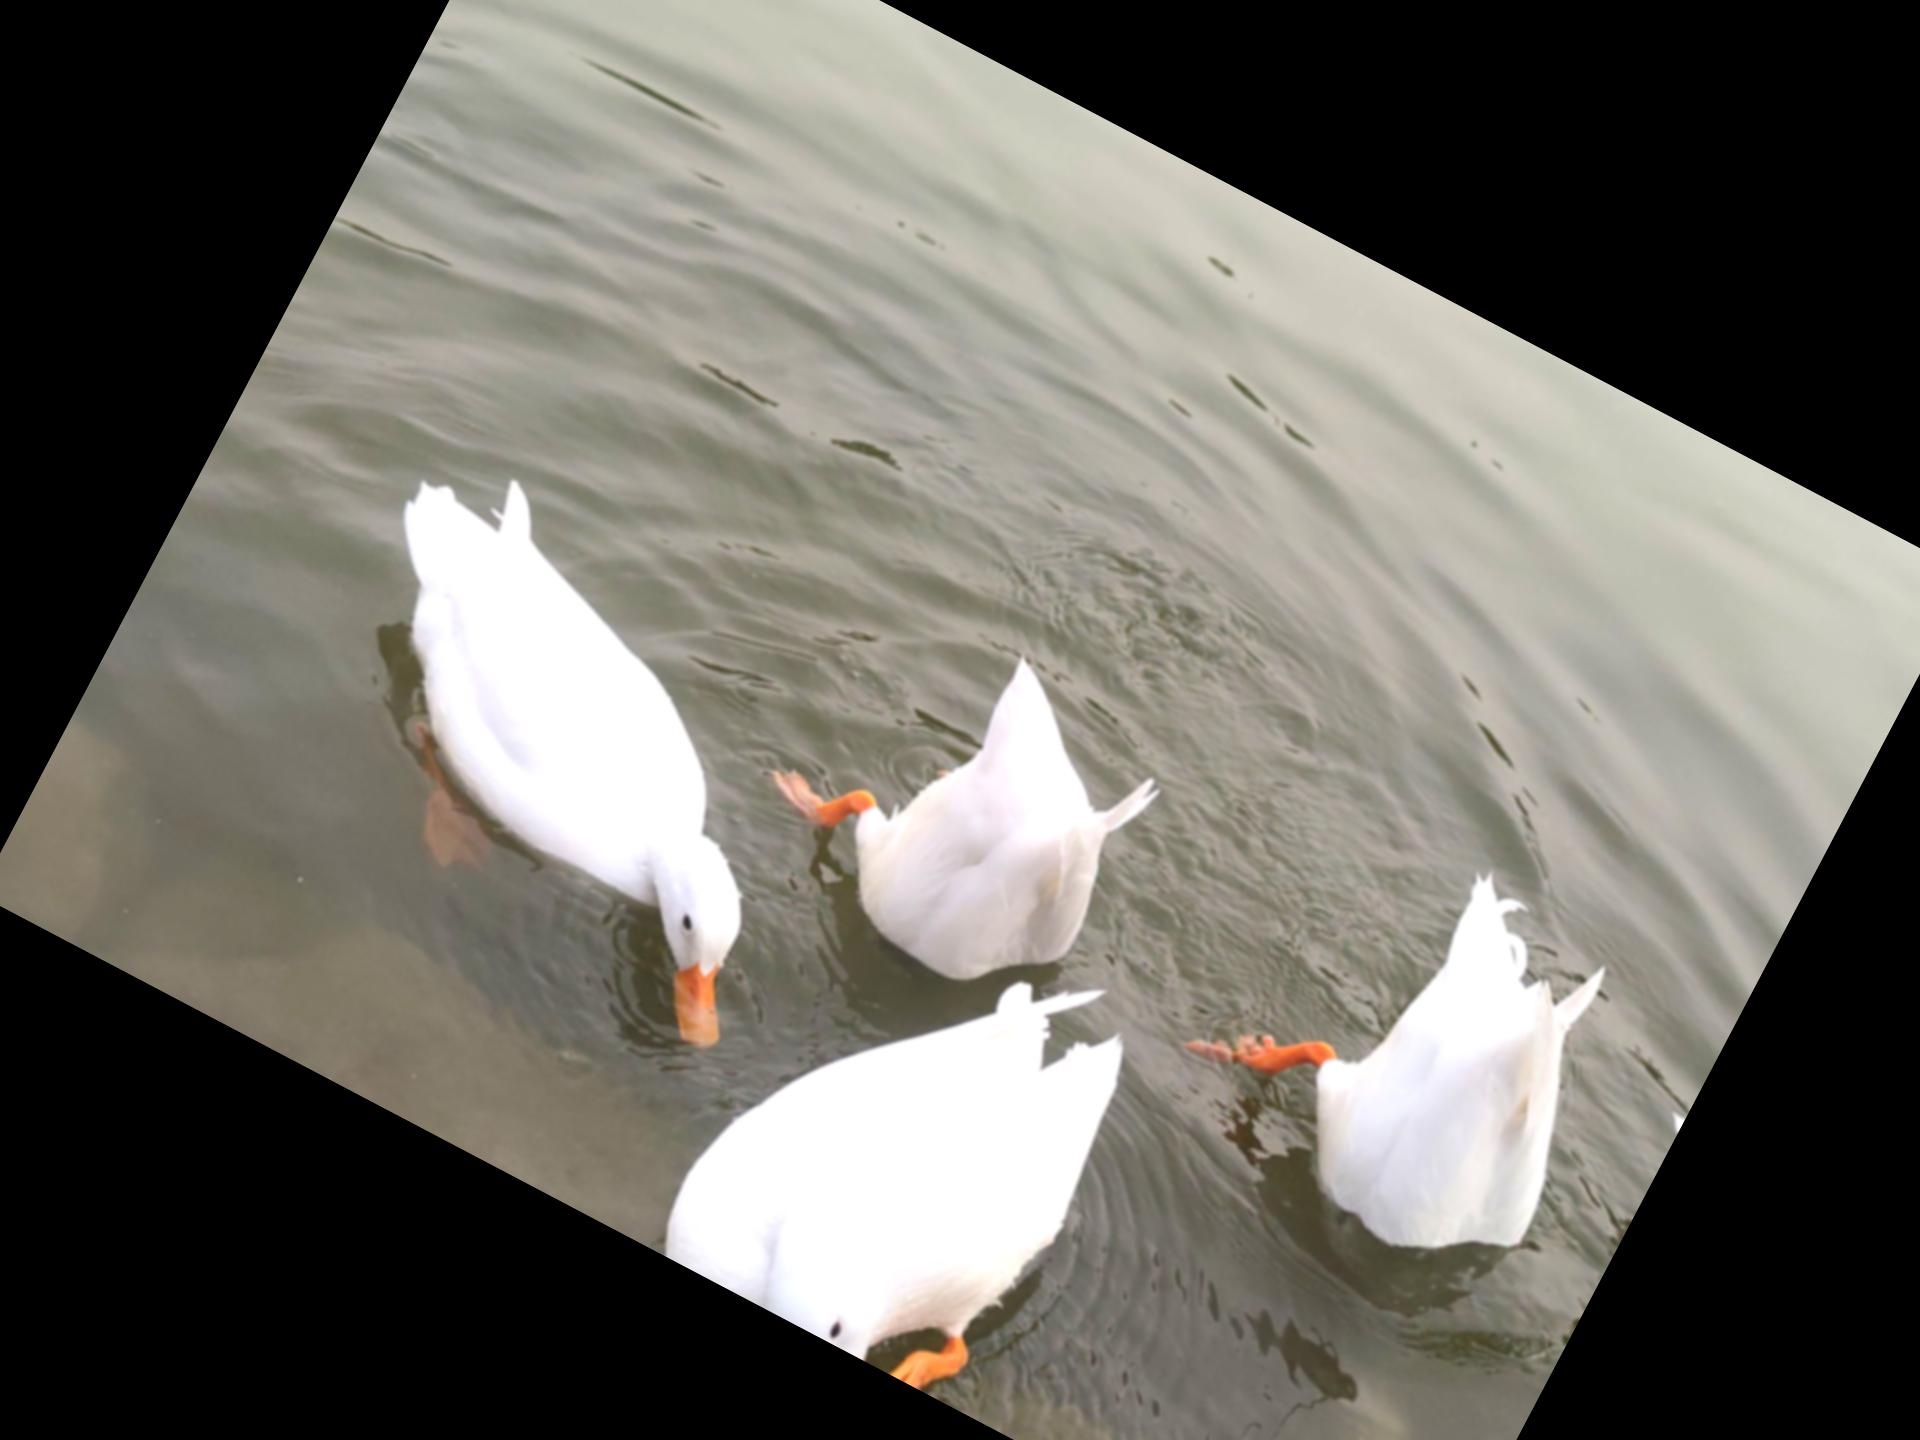duck: (207, 422, 927, 1098), (605, 821, 1205, 1428), (1141, 756, 1695, 1304), (712, 549, 1212, 1035)
